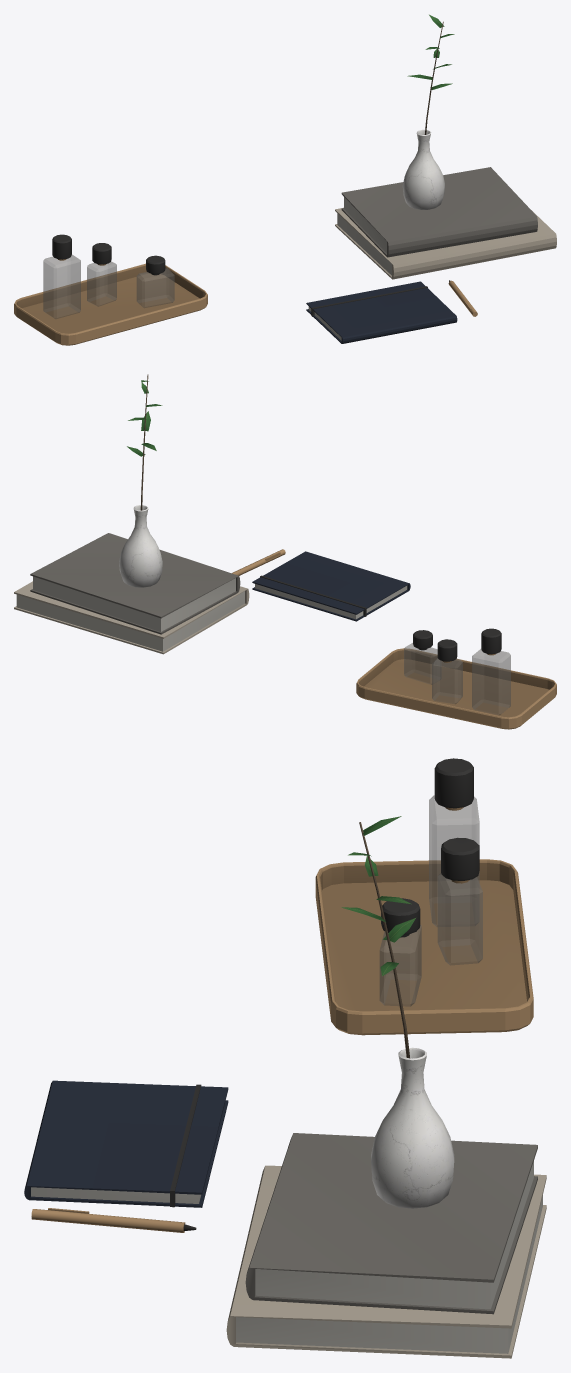
Rendered from decor_d_vignette_vanity_desk.gltf.
3 renders of one model, top to bottom at view 1: azimuth 30°, elevation 25°; view 2: azimuth 150°, elevation 25°; view 3: azimuth 270°, elevation 25°, orthographic. The views are drawn at different scales.
Visible parts, largest first — view 1: DecorD_Vignette_VanityDesk_StoneFabric_NoCollide, DecorD_Vignette_VanityDesk_Bronze_NoCollide, DecorD_Vignette_VanityDesk_Ink_NoCollide, DecorD_Vignette_VanityDesk_Glass_NoCollide, DecorD_Vignette_VanityDesk_Oat_NoCollide, DecorD_Vignette_VanityDesk_Marble_NoCollide, DecorD_Vignette_VanityDesk_Charcoal_NoCollide, DecorD_Vignette_VanityDesk_Paper_NoCollide; view 2: DecorD_Vignette_VanityDesk_Bronze_NoCollide, DecorD_Vignette_VanityDesk_StoneFabric_NoCollide, DecorD_Vignette_VanityDesk_Paper_NoCollide, DecorD_Vignette_VanityDesk_Ink_NoCollide, DecorD_Vignette_VanityDesk_Glass_NoCollide, DecorD_Vignette_VanityDesk_Marble_NoCollide, DecorD_Vignette_VanityDesk_Oat_NoCollide, DecorD_Vignette_VanityDesk_Charcoal_NoCollide, DecorD_Vignette_VanityDesk_Leaf_NoCollide; view 3: DecorD_Vignette_VanityDesk_Bronze_NoCollide, DecorD_Vignette_VanityDesk_StoneFabric_NoCollide, DecorD_Vignette_VanityDesk_Ink_NoCollide, DecorD_Vignette_VanityDesk_Paper_NoCollide, DecorD_Vignette_VanityDesk_Oat_NoCollide, DecorD_Vignette_VanityDesk_Glass_NoCollide, DecorD_Vignette_VanityDesk_Marble_NoCollide, DecorD_Vignette_VanityDesk_Charcoal_NoCollide, DecorD_Vignette_VanityDesk_Leaf_NoCollide, DecorD_Vignette_VanityDesk_Bark_NoCollide.
Boxes of the visible parts, x1=… form: DecorD_Vignette_VanityDesk_StoneFabric_NoCollide: x1=341, y1=167, x2=537, y2=257; DecorD_Vignette_VanityDesk_Bronze_NoCollide: x1=14, y1=259, x2=477, y2=345; DecorD_Vignette_VanityDesk_Ink_NoCollide: x1=306, y1=281, x2=457, y2=343; DecorD_Vignette_VanityDesk_Glass_NoCollide: x1=43, y1=254, x2=174, y2=318; DecorD_Vignette_VanityDesk_Oat_NoCollide: x1=335, y1=207, x2=556, y2=279; DecorD_Vignette_VanityDesk_Marble_NoCollide: x1=402, y1=129, x2=444, y2=209; DecorD_Vignette_VanityDesk_Charcoal_NoCollide: x1=52, y1=234, x2=450, y2=316; DecorD_Vignette_VanityDesk_Paper_NoCollide: x1=308, y1=197, x2=391, y2=340; DecorD_Vignette_VanityDesk_Bronze_NoCollide: x1=232, y1=549, x2=556, y2=729; DecorD_Vignette_VanityDesk_StoneFabric_NoCollide: x1=30, y1=533, x2=240, y2=634; DecorD_Vignette_VanityDesk_Paper_NoCollide: x1=16, y1=576, x2=407, y2=651; DecorD_Vignette_VanityDesk_Ink_NoCollide: x1=252, y1=551, x2=410, y2=621; DecorD_Vignette_VanityDesk_Glass_NoCollide: x1=404, y1=643, x2=510, y2=715; DecorD_Vignette_VanityDesk_Marble_NoCollide: x1=119, y1=505, x2=162, y2=587; DecorD_Vignette_VanityDesk_Oat_NoCollide: x1=14, y1=581, x2=249, y2=654; DecorD_Vignette_VanityDesk_Charcoal_NoCollide: x1=260, y1=575, x2=501, y2=661; DecorD_Vignette_VanityDesk_Leaf_NoCollide: x1=127, y1=380, x2=162, y2=456; DecorD_Vignette_VanityDesk_Bronze_NoCollide: x1=31, y1=807, x2=533, y2=1232; DecorD_Vignette_VanityDesk_StoneFabric_NoCollide: x1=245, y1=1133, x2=537, y2=1314; DecorD_Vignette_VanityDesk_Ink_NoCollide: x1=24, y1=1080, x2=228, y2=1207; DecorD_Vignette_VanityDesk_Paper_NoCollide: x1=31, y1=1161, x2=542, y2=1353; DecorD_Vignette_VanityDesk_Oat_NoCollide: x1=226, y1=1165, x2=546, y2=1358; DecorD_Vignette_VanityDesk_Glass_NoCollide: x1=379, y1=795, x2=482, y2=1006; DecorD_Vignette_VanityDesk_Marble_NoCollide: x1=371, y1=1047, x2=454, y2=1208; DecorD_Vignette_VanityDesk_Charcoal_NoCollide: x1=170, y1=758, x2=479, y2=1230; DecorD_Vignette_VanityDesk_Leaf_NoCollide: x1=341, y1=816, x2=415, y2=976; DecorD_Vignette_VanityDesk_Bark_NoCollide: x1=359, y1=822, x2=409, y2=1058.
Bounding box in the file's own units: 0.9441 × 0.4145 × 0.438.
10 materials, 2 textured.
